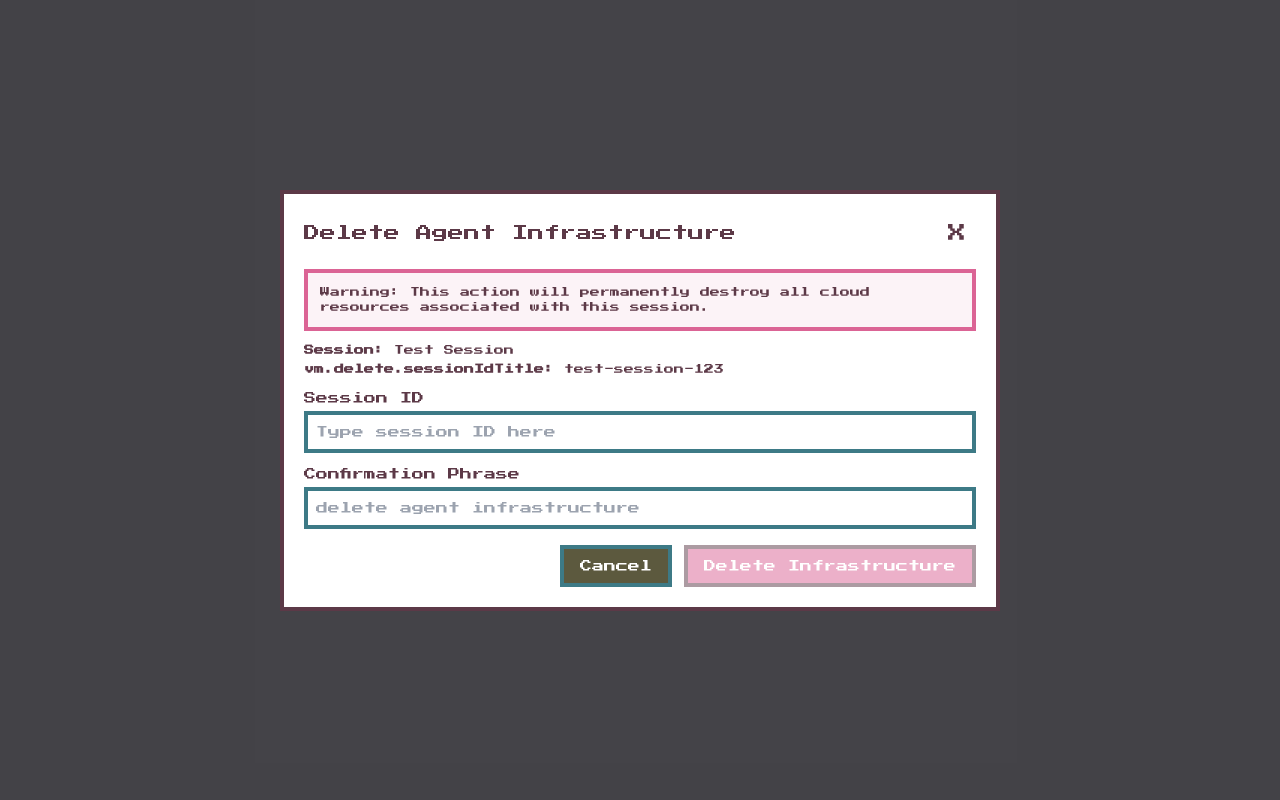
Test: DeleteInfrastructureModal Component › should validate confirmation phrase input
Enter incorrect phrase
Step 1. Type "wrong phrase" into the field with placeholder "delete agent infrastructure" → (640, 508), box [304,486,976,528]
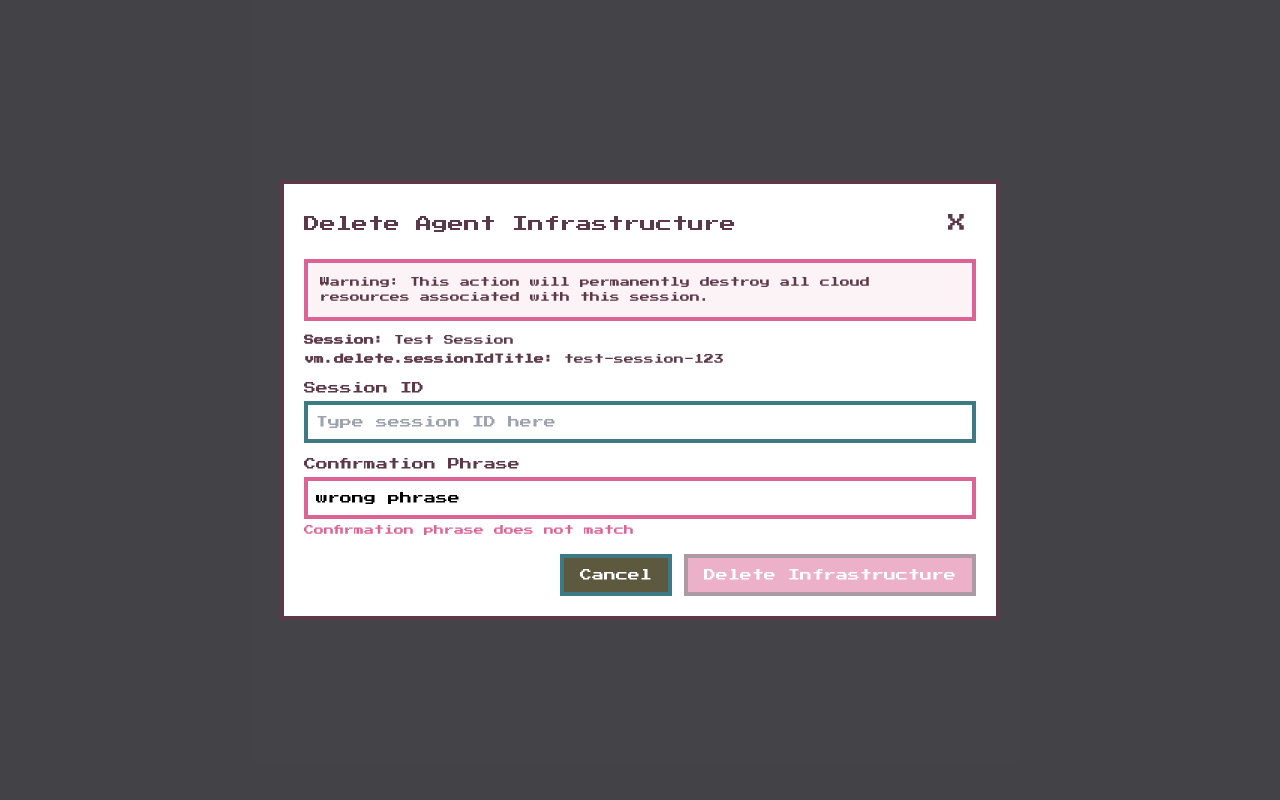
Now the text "Confirmation phrase does not match" is shown, box [304,525,634,535]
Enter correct phrase
Step 2. Replace the text in the field with placeholder "delete agent infrastructure" with "delete agent infrastructure" → (640, 498), box [304,477,976,519]
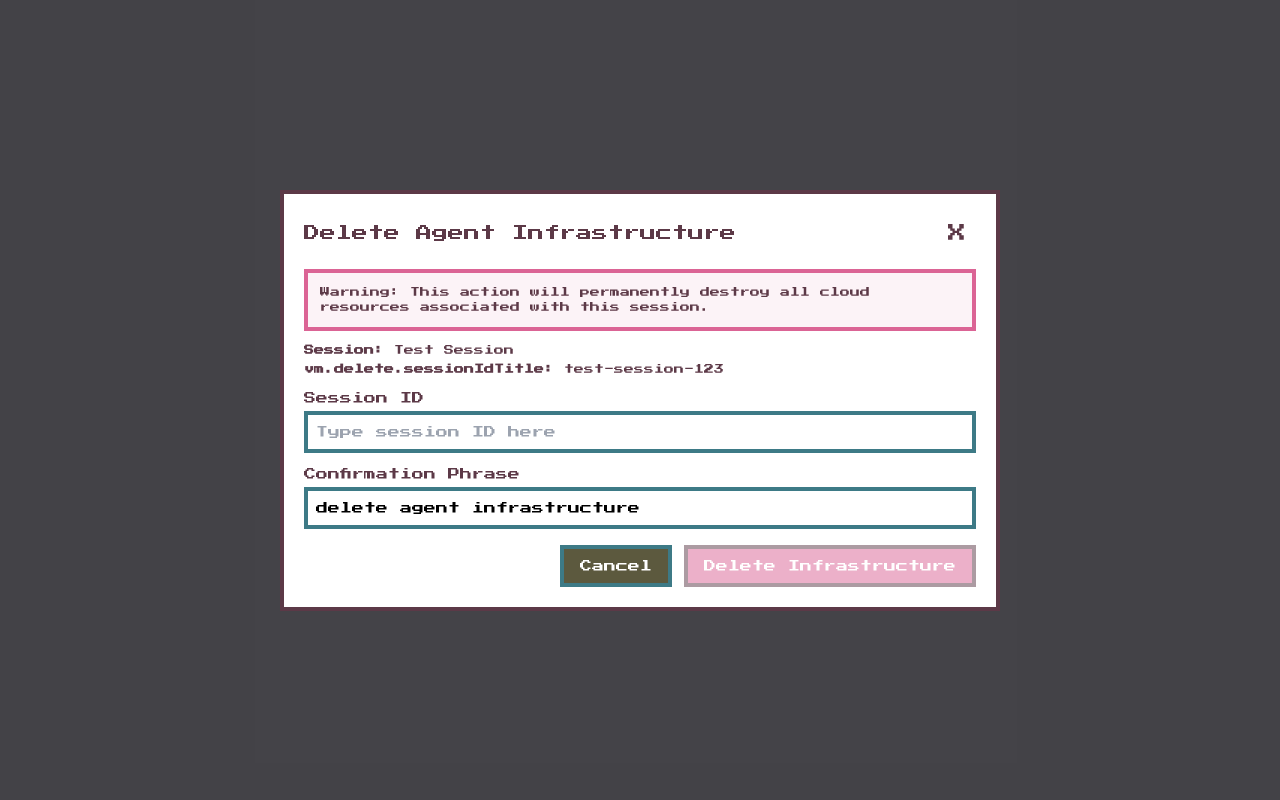
Now the text "Confirmation phrase does not match" is gone
